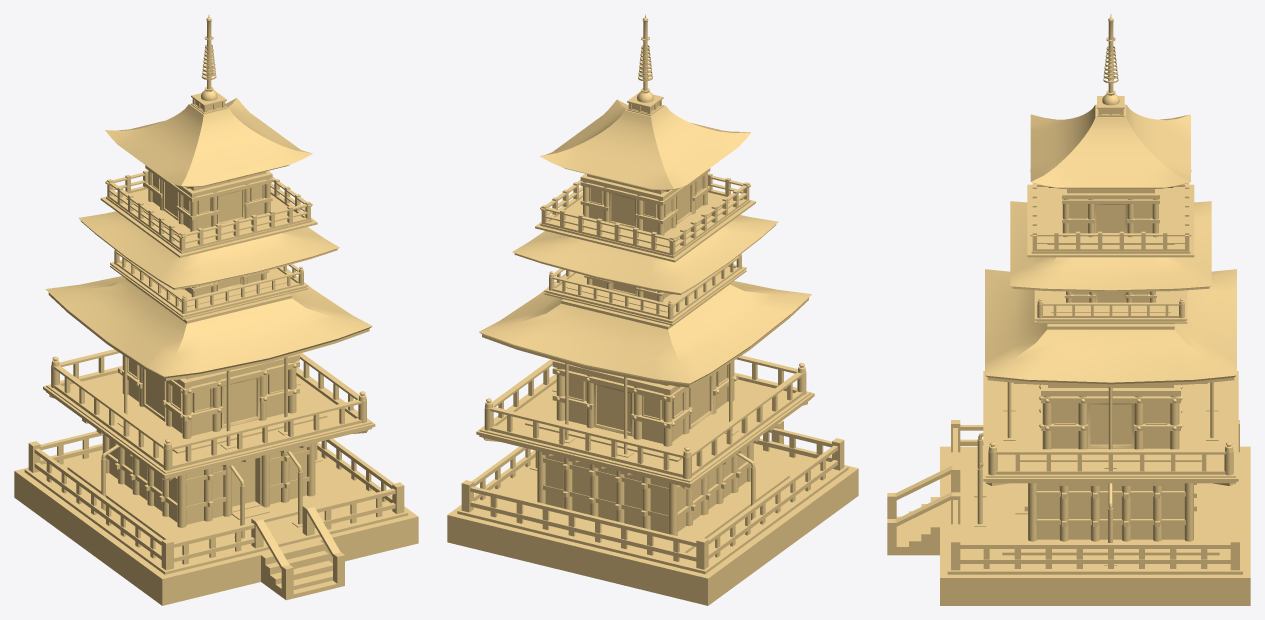
The model's file is japanese_temple_blender_3d_model.glb.
3 views of the same model, side by side, from view 1: azimuth 30°, elevation 25°; view 2: azimuth 150°, elevation 25°; view 3: azimuth 270°, elevation 25° (orthographic). The views are drawn at different scales.
Visible parts, largest first — view 1: Japanese_Shrine; view 2: Japanese_Shrine; view 3: Japanese_Shrine.
Boxes of the visible parts, box(x1,y1,x2,y2) form: Japanese_Shrine: box(14, 14, 418, 605); Japanese_Shrine: box(447, 14, 858, 605); Japanese_Shrine: box(887, 14, 1250, 605).
Size of the model in its own units: 20 by 37.38 by 23.4.
